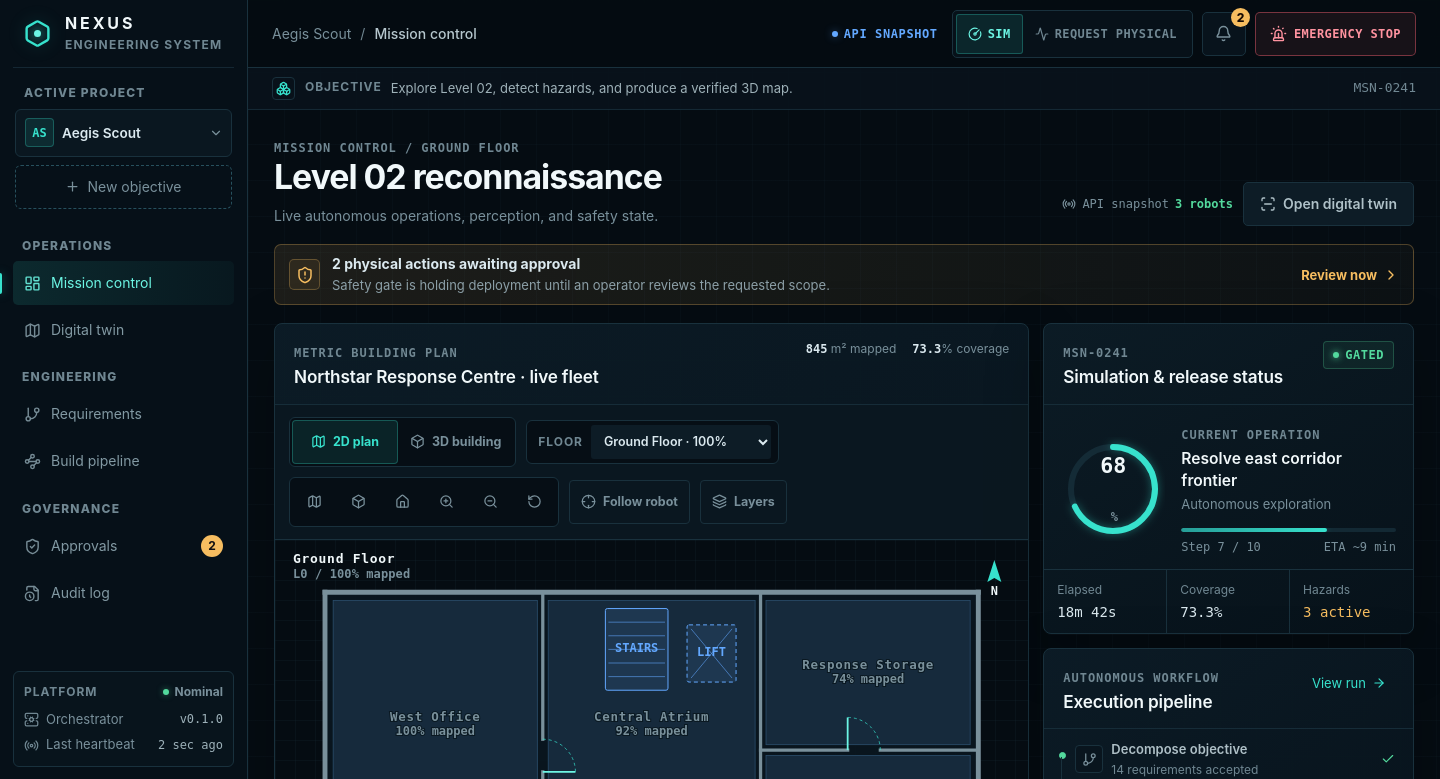
Scenario: NEXUS operations console › awaits a physical request and reports approval without claiming actuation
The image size is (1440, 779).
Expected: the text "API SNAPSHOT" is shown, x1=827 y1=26 x2=943 y2=40
Click the button with aria-label "Request physical approval". click: [1106, 34]
box: x1=1023 y1=14 x2=1189 y2=54
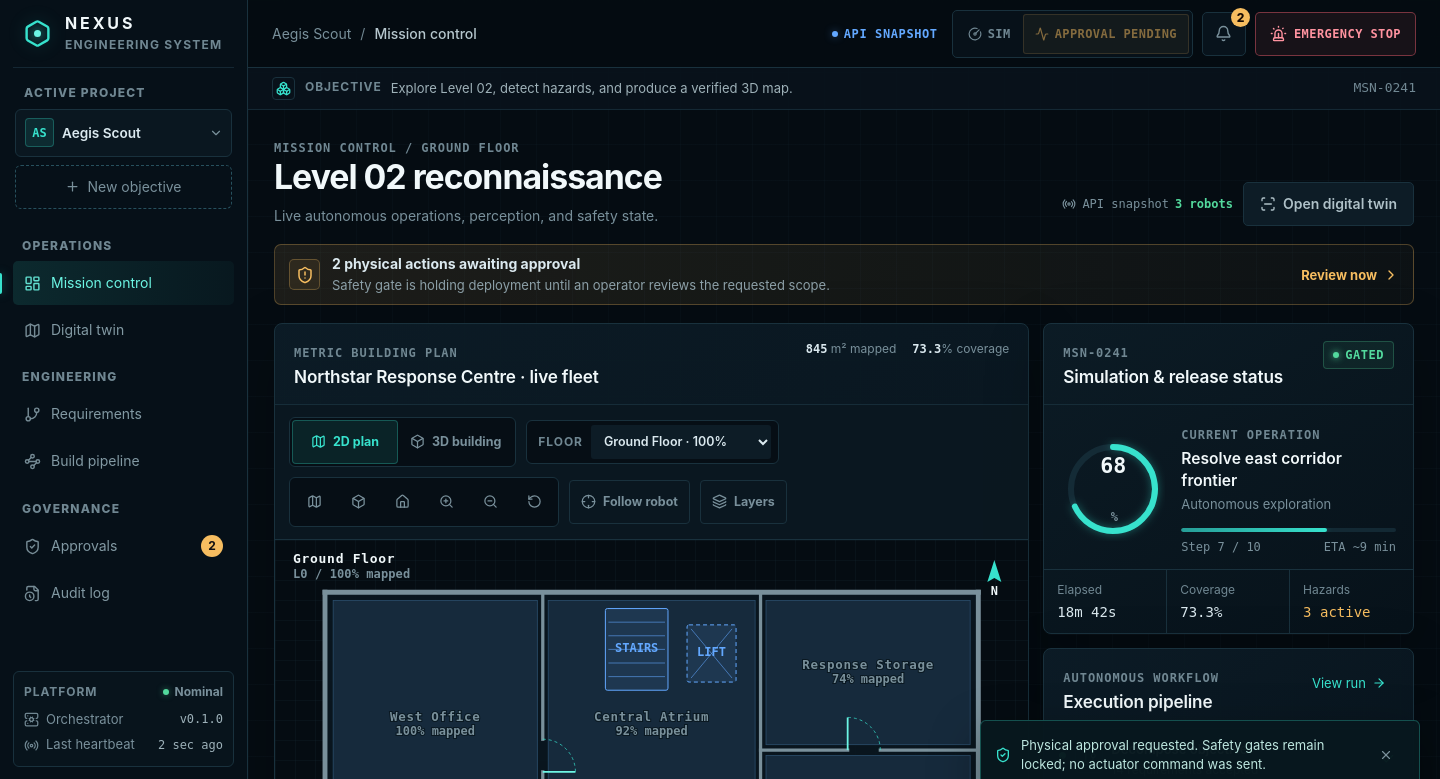
Result: the button named "Physical approval request in progress" is disabled at x1=1023 y1=14 x2=1189 y2=54
Result: the button with aria-label "Physical approval pending" is disabled at x1=1023 y1=14 x2=1189 y2=54
